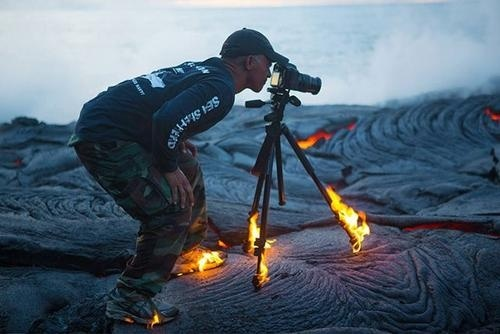fire: (324, 186, 370, 253), (247, 212, 276, 284), (179, 240, 227, 275), (296, 128, 332, 149)
